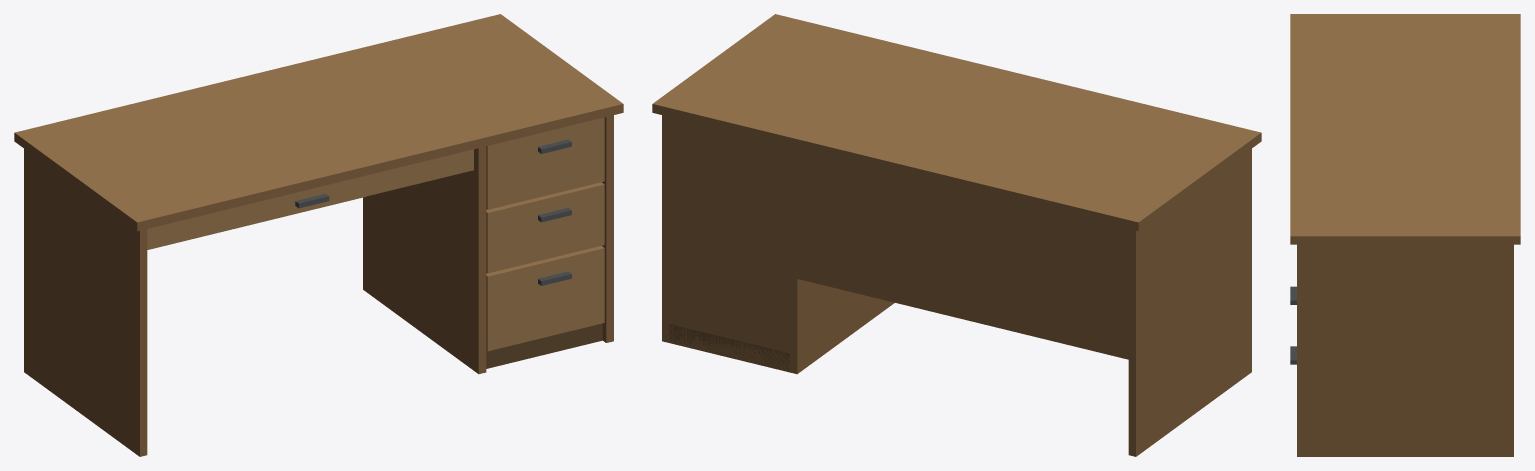
The model's file is desk.glb.
3 views of the same model, side by side, from view 1: azimuth 30°, elevation 25°; view 2: azimuth 150°, elevation 25°; view 3: azimuth 270°, elevation 25° (orthographic). The views are drawn at different scales.
Visible parts, largest first — view 1: desk; view 2: desk; view 3: desk.
Boxes of the visible parts, x1,y1,x2,y2 form: desk: (14,14,623,456); desk: (652,14,1261,456); desk: (1290,14,1520,456).
Bounding box in the file's own units: 1.6 × 0.7501 × 0.7001.
